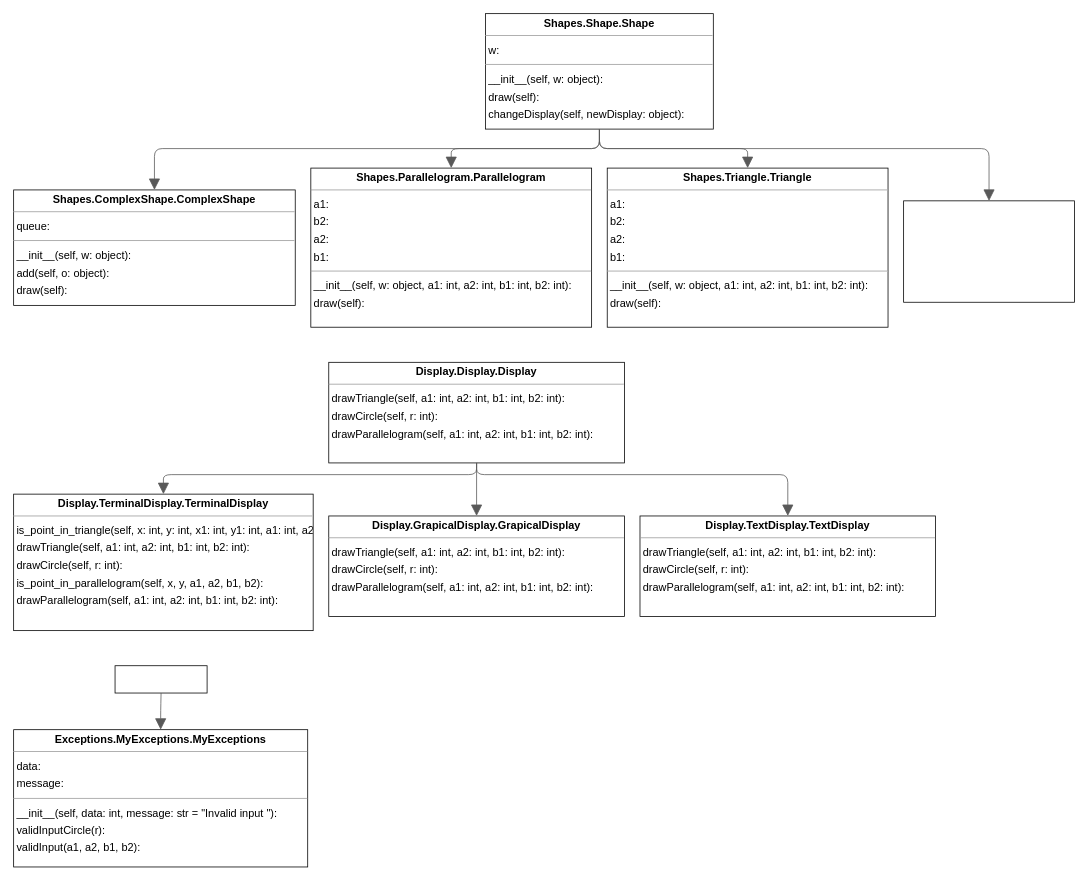
This 1088x881 diagram has some shape labels left out. The box of each missing label's shape, as (x1, y1, x2, y2) in pixels:
Exception: (114, 665, 207, 693)
Shapes.Circle.Circle r: __init__(self, w: object, r: int): draw(self):: (903, 200, 1074, 302)
